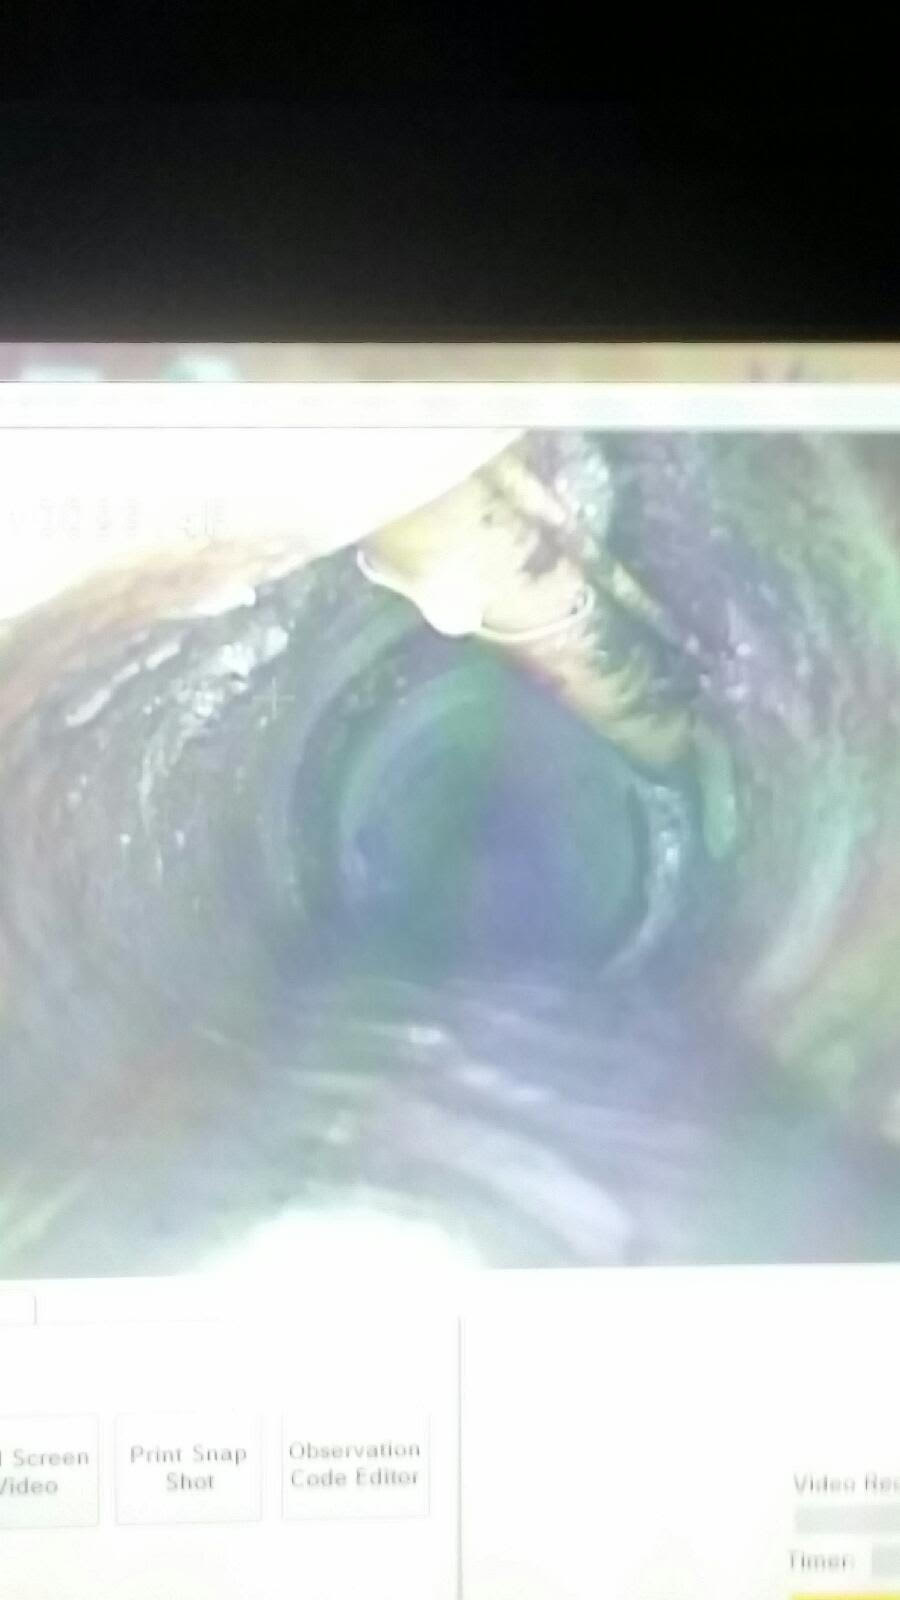cb: (356, 444, 716, 785)
